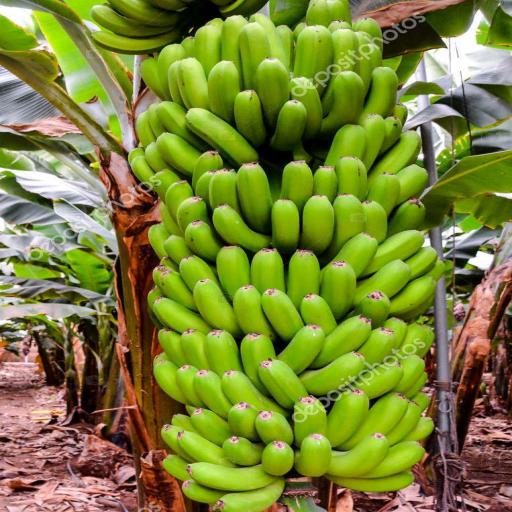banana-unripe: (97, 0, 460, 512)
